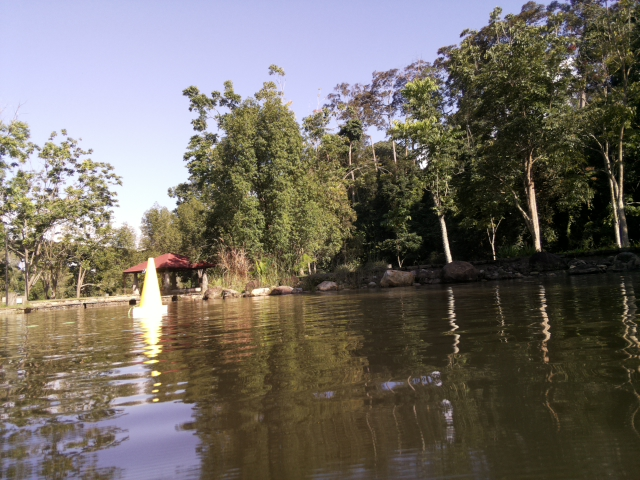checkpoint: (129, 258, 168, 318)
